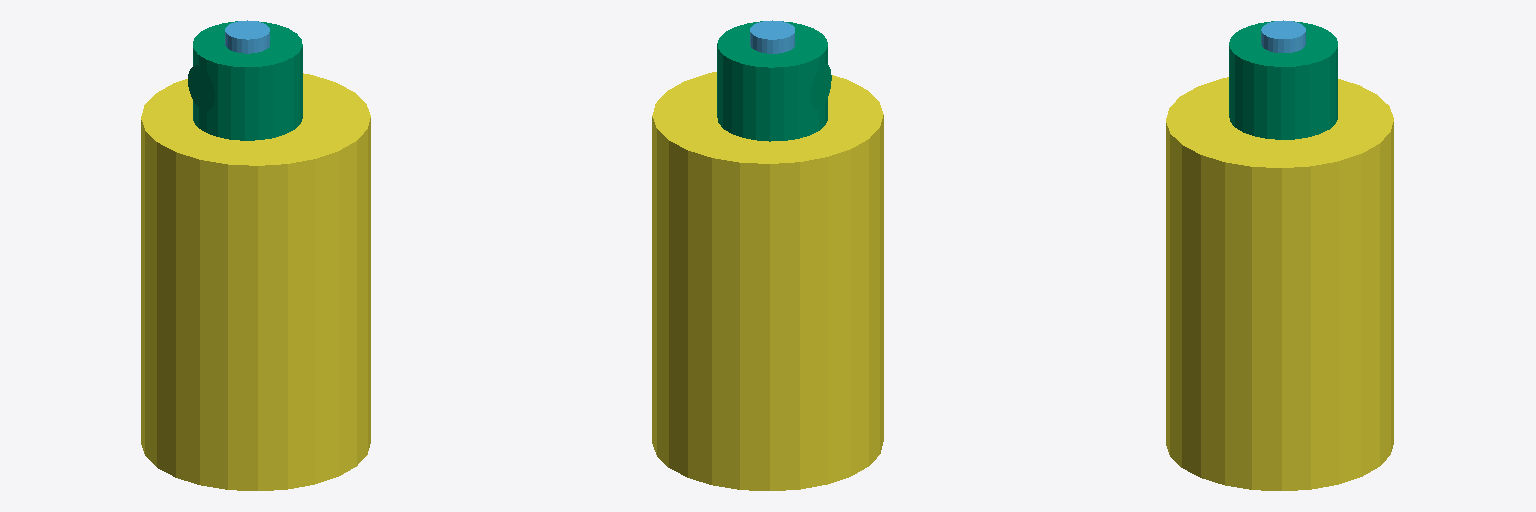
URDF robot description (partnet_0482edcd-c21f-4bbb-aa35-7339057aa7b5):
<?xml version="1.0" ?>
<robot name="partnet_0482edcd-c21f-4bbb-aa35-7339057aa7b5">
	<link name="base"/>
	<link name="link_0">
		<visual name="pressing_lid-4">
			<origin xyz="0 0 0"/>
			<geometry>
				<mesh filename="textured_objs/original-5.obj"/>
			</geometry>
		</visual>
		<collision>
			<origin xyz="0 0 0"/>
			<geometry>
				<mesh filename="textured_objs/original-5.obj"/>
			</geometry>
		</collision>
	</link>
	<joint name="joint_0" type="prismatic">
		<origin xyz="0.017747506009423705 0 -0.027269471877080162"/>
		<axis xyz="0 -1 0"/>
		<child link="link_0"/>
		<parent link="link_1"/>
		<limit lower="0" upper="0.05"/>
	</joint>
	<link name="link_1">
		<visual name="head-6">
			<origin xyz="0.017747506009423705 0 -0.027269471877080162"/>
			<geometry>
				<mesh filename="textured_objs/original-4.obj"/>
			</geometry>
		</visual>
		<visual name="head-6">
			<origin xyz="0.017747506009423705 0 -0.027269471877080162"/>
			<geometry>
				<mesh filename="textured_objs/original-6.obj"/>
			</geometry>
		</visual>
		<visual name="head-6">
			<origin xyz="0.017747506009423705 0 -0.027269471877080162"/>
			<geometry>
				<mesh filename="textured_objs/original-3.obj"/>
			</geometry>
		</visual>
		<collision>
			<origin xyz="0.017747506009423705 0 -0.027269471877080162"/>
			<geometry>
				<mesh filename="textured_objs/original-4.obj"/>
			</geometry>
		</collision>
		<collision>
			<origin xyz="0.017747506009423705 0 -0.027269471877080162"/>
			<geometry>
				<mesh filename="textured_objs/original-6.obj"/>
			</geometry>
		</collision>
		<collision>
			<origin xyz="0.017747506009423705 0 -0.027269471877080162"/>
			<geometry>
				<mesh filename="textured_objs/original-3.obj"/>
			</geometry>
		</collision>
	</link>
	<joint name="joint_1" type="continuous">
		<origin xyz="0.0 0 0.0"/>
		<axis xyz="0 1 0"/>
		<child link="link_1"/>
		<parent link="link_1_helper"/>
	</joint>
	<link name="link_2">
		<visual name="base_body-7">
			<origin xyz="0 0 0"/>
			<geometry>
				<mesh filename="textured_objs/original-2.obj"/>
			</geometry>
		</visual>
		<visual name="base_body-7">
			<origin xyz="0 0 0"/>
			<geometry>
				<mesh filename="textured_objs/original-1.obj"/>
			</geometry>
		</visual>
		<collision>
			<origin xyz="0 0 0"/>
			<geometry>
				<mesh filename="textured_objs/original-2.obj"/>
			</geometry>
		</collision>
		<collision>
			<origin xyz="0 0 0"/>
			<geometry>
				<mesh filename="textured_objs/original-1.obj"/>
			</geometry>
		</collision>
	</link>
	<joint name="joint_2" type="fixed">
		<origin rpy="1.570796326794897 0 -1.570796326794897" xyz="0 0 0"/>
		<child link="link_2"/>
		<parent link="base"/>
	</joint>
	<link name="link_1_helper"/>
	<joint name="joint_3" type="prismatic">
		<origin xyz="-0.017747506009423705 0 0.027269471877080162"/>
		<axis xyz="0 1 0"/>
		<child link="link_1_helper"/>
		<parent link="link_2"/>
		<limit lower="0" upper="0.05"/>
	</joint>
</robot>

--- What the picture shows (computed from the rendered views, not written in the file) ---
The picture shows the robot from 3 angles, left to right: view 1: azimuth 30°, elevation 25°; view 2: azimuth 150°, elevation 25°; view 3: azimuth 270°, elevation 25°; orthographic projection.
Model partnet_0482edcd-c21f-4bbb-aa35-7339057aa7b5 with 5 links and 4 joints (1 continuous, 2 prismatic, 1 fixed), rooted at base, posed every joint at zero.
Visible links, largest first — view 1: link_2, link_1, link_0; view 2: link_2, link_1, link_0; view 3: link_2, link_1, link_0.
Link boxes in pixels (x1,y1,x2,y2): link_2: (141,73,370,490); link_1: (188,21,302,140); link_0: (225,20,269,53); link_2: (652,72,883,490); link_1: (717,21,831,141); link_0: (750,20,794,53); link_2: (1166,77,1393,490); link_1: (1229,21,1337,139); link_0: (1261,20,1305,52).
Size in the robot's own frame: 0.8803 by 0.8803 by 1.74 metres.
Meshes: 6 distinct files referenced, 6 mesh visuals loaded (6 OBJ).